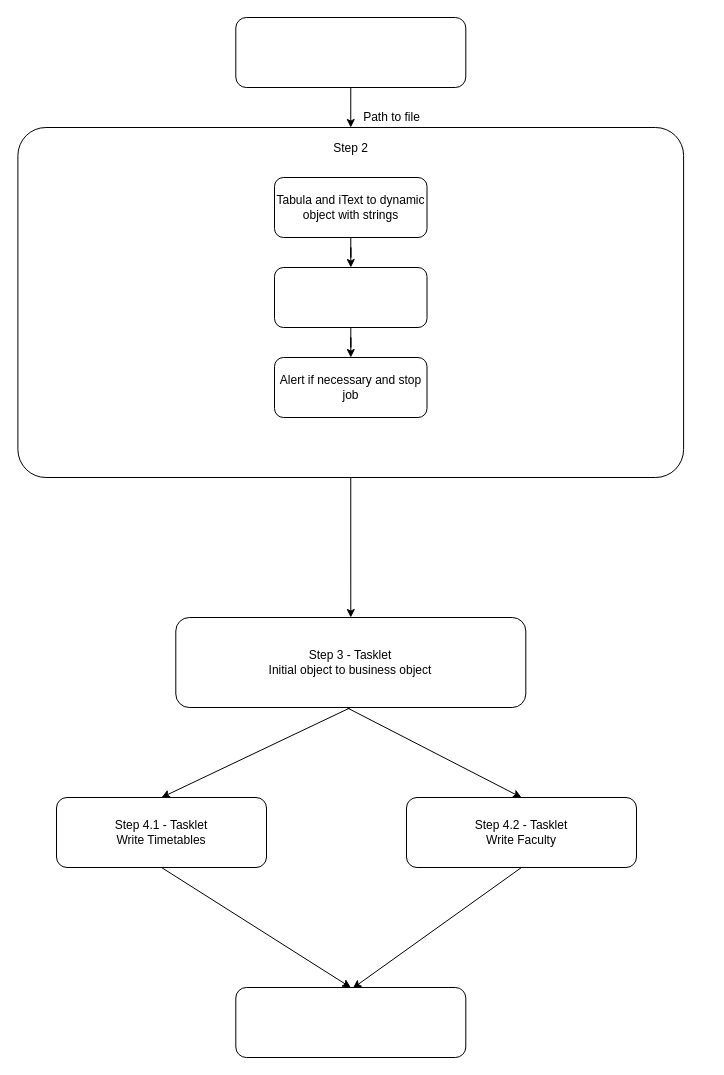
Some shapes in this 724 by 1075 pixel diagram are drawn without their labels. Here are the shapes that lost their labels. From the top down, the box of each, then its label:
(235, 16, 466, 88): Step 1 : Tasklet Calls FileDownloader and FileComparator
(274, 266, 427, 328): Format verifier; Create kotlin object
(235, 986, 466, 1058): Step 5 - Tasklet Write Hash to db; Send success alert
